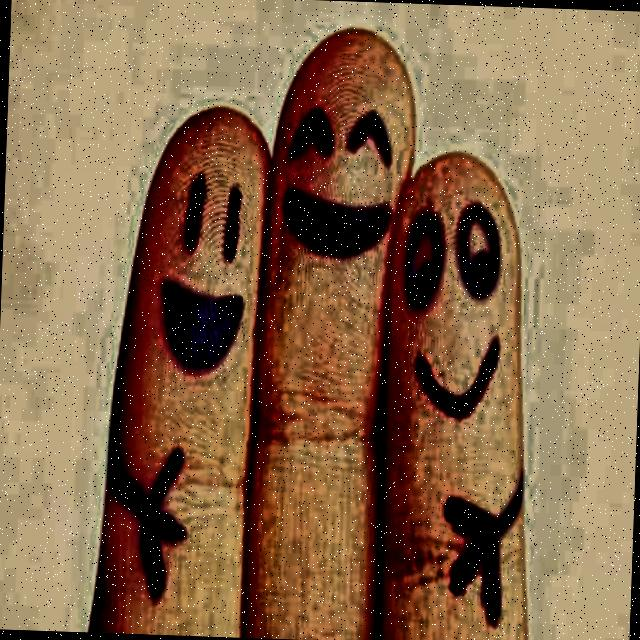happy: (270, 17, 402, 274), (398, 168, 515, 450), (142, 144, 267, 406)
